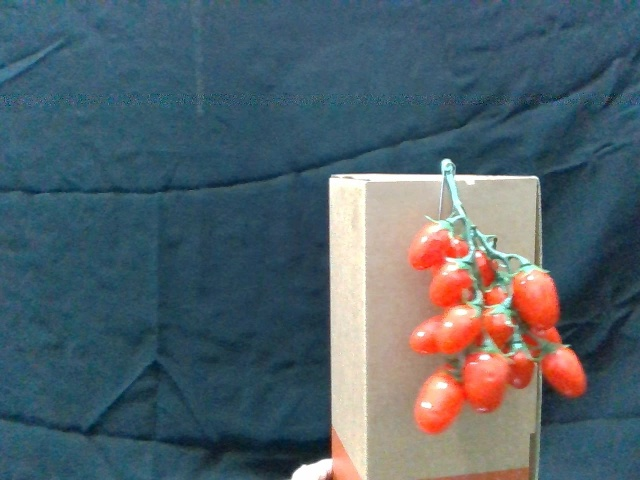tomato: (412, 360, 466, 437), (513, 260, 564, 330), (463, 347, 506, 417), (538, 340, 587, 398), (411, 216, 458, 273), (441, 298, 485, 352), (429, 258, 479, 305), (501, 340, 536, 393), (487, 293, 515, 344)
